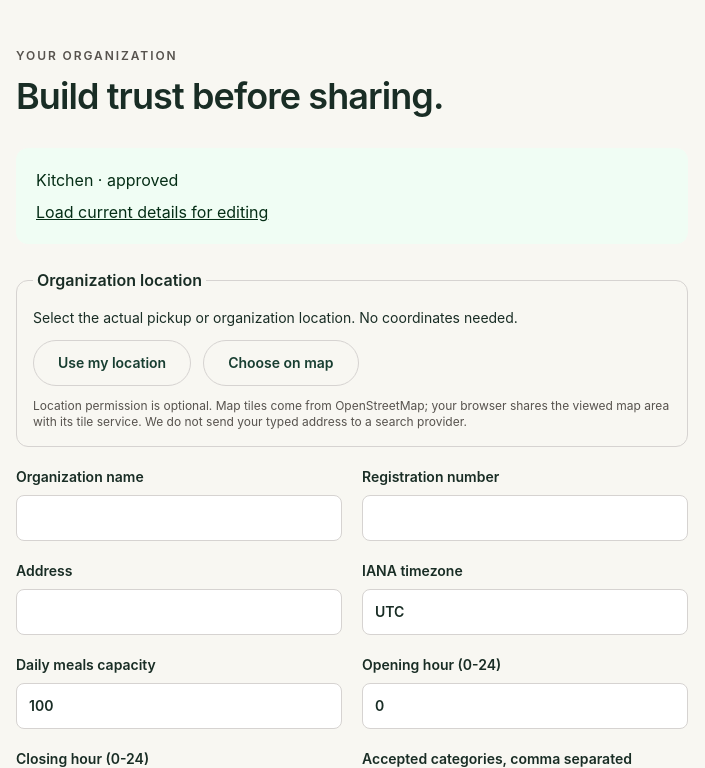
Test: shows editable organization and submits reapproval
Step 1. Click the button "Load current details for editing" → (152, 212), box [36,200,268,224]
(page scrolled)
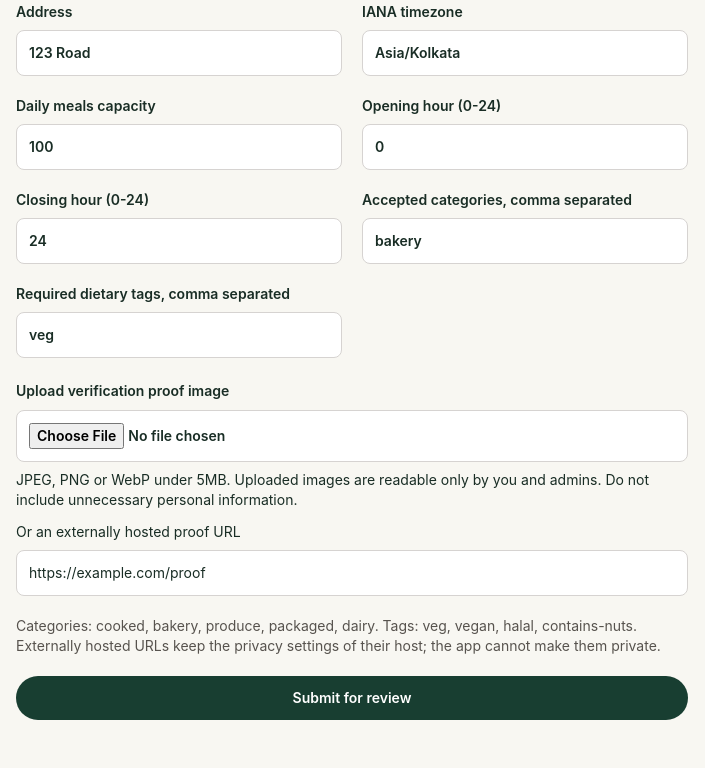
Step 2. Click the button "Submit for review" → (352, 698), box [16,676,688,720]
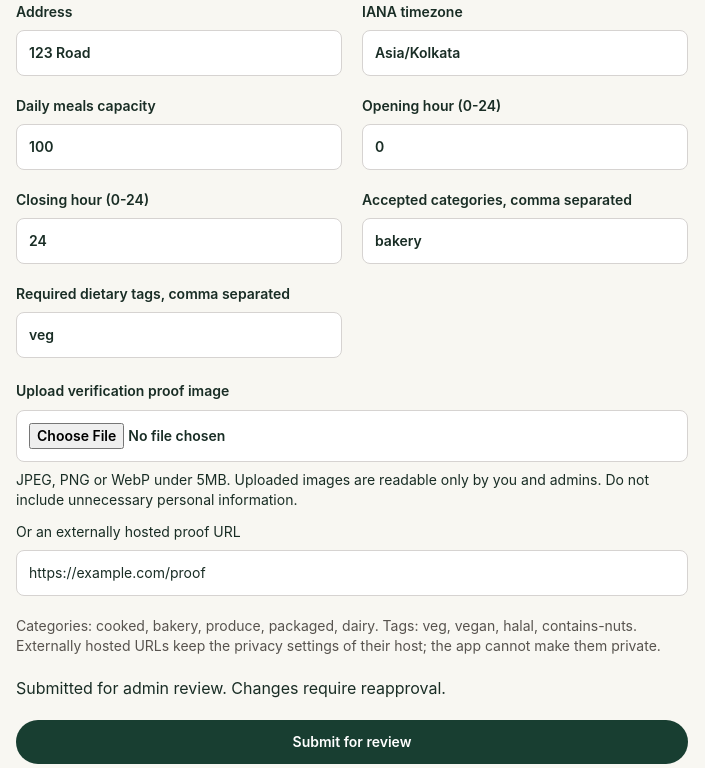
Now the text "Submitted for admin review. Changes require reapproval." is shown, box [16,678,446,698]
